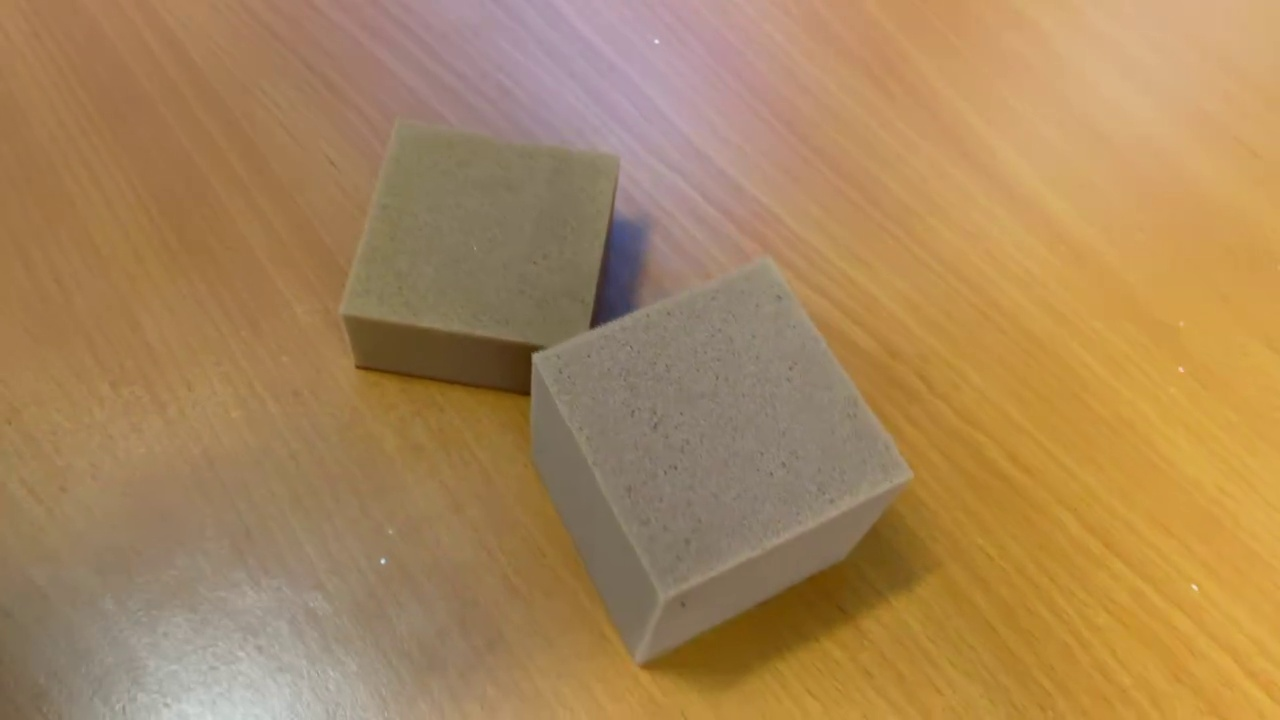Cube: (516, 245, 924, 671)
Cube_short: (333, 108, 624, 397)
